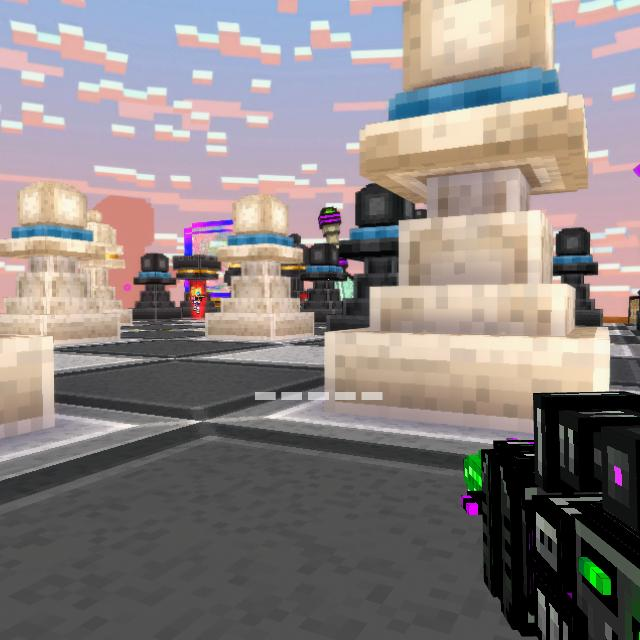Enemy: (190, 287, 204, 314)
